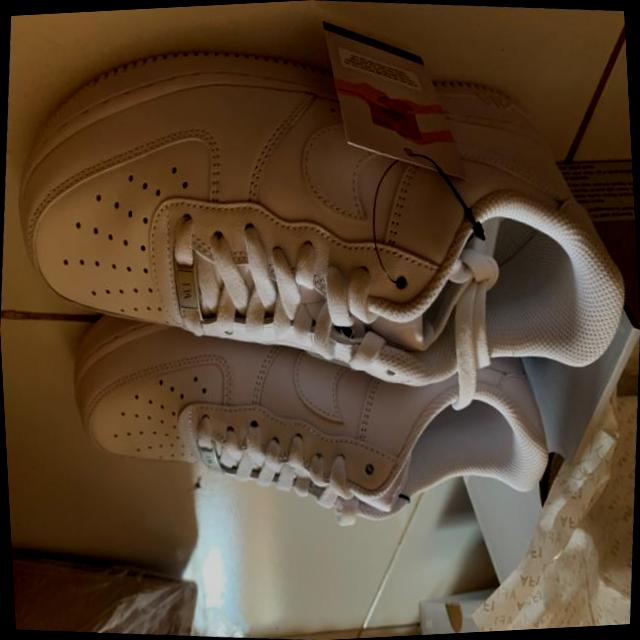nike_original_airforce: (0, 6, 640, 426), (58, 281, 563, 554)
